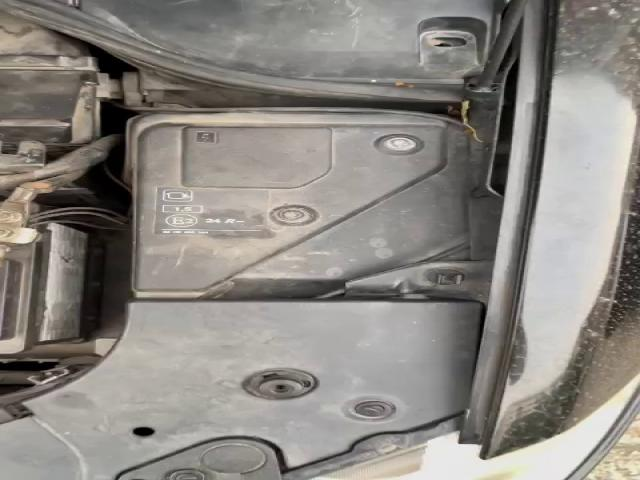accumulator: (2, 202, 113, 357)
fuse_box: (130, 110, 477, 301)
